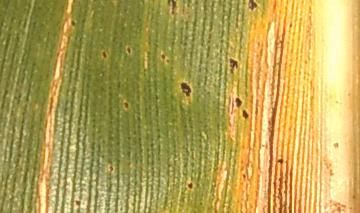tarspot: (178, 80, 192, 98), (227, 58, 239, 76), (166, 1, 179, 17), (159, 52, 171, 65), (245, 1, 258, 13), (73, 198, 88, 207), (98, 50, 109, 61), (123, 44, 133, 56), (241, 107, 250, 120), (233, 97, 243, 108), (121, 98, 130, 110), (186, 181, 195, 191), (107, 163, 115, 174), (69, 19, 78, 27), (276, 157, 285, 165), (240, 172, 247, 180), (333, 141, 339, 150)
